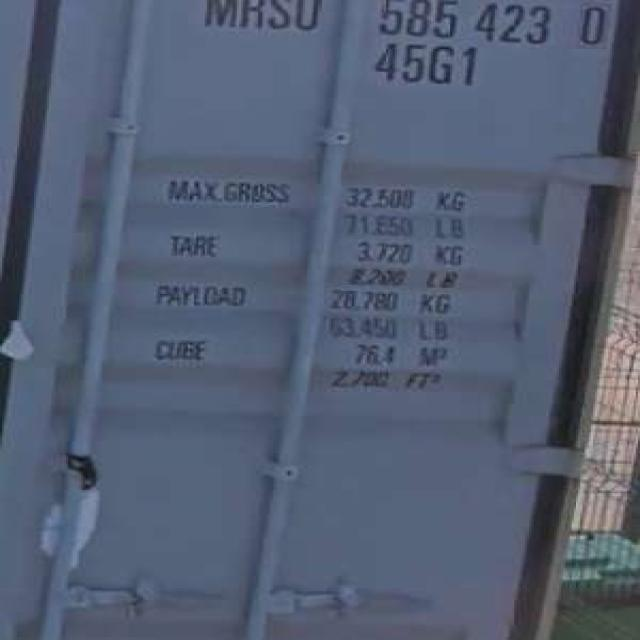dv: (571, 0, 612, 47)
owner: (191, 0, 326, 38)
serial: (371, 0, 554, 44)
size: (365, 40, 484, 90)
